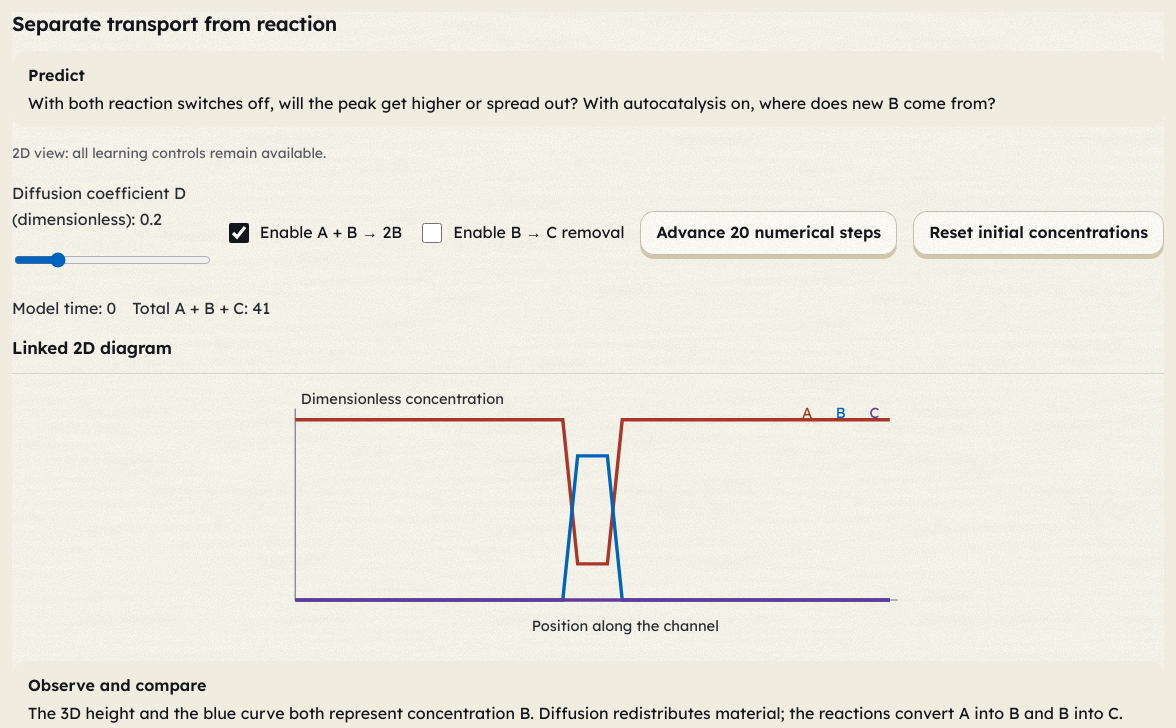
Test case: study controls remain usable without WebGL › advances a numerical model and resets concentrations without losing selected controls
The image size is (1176, 728).
Set the slider to ".8" at (112, 260), box [14,238,211,282]
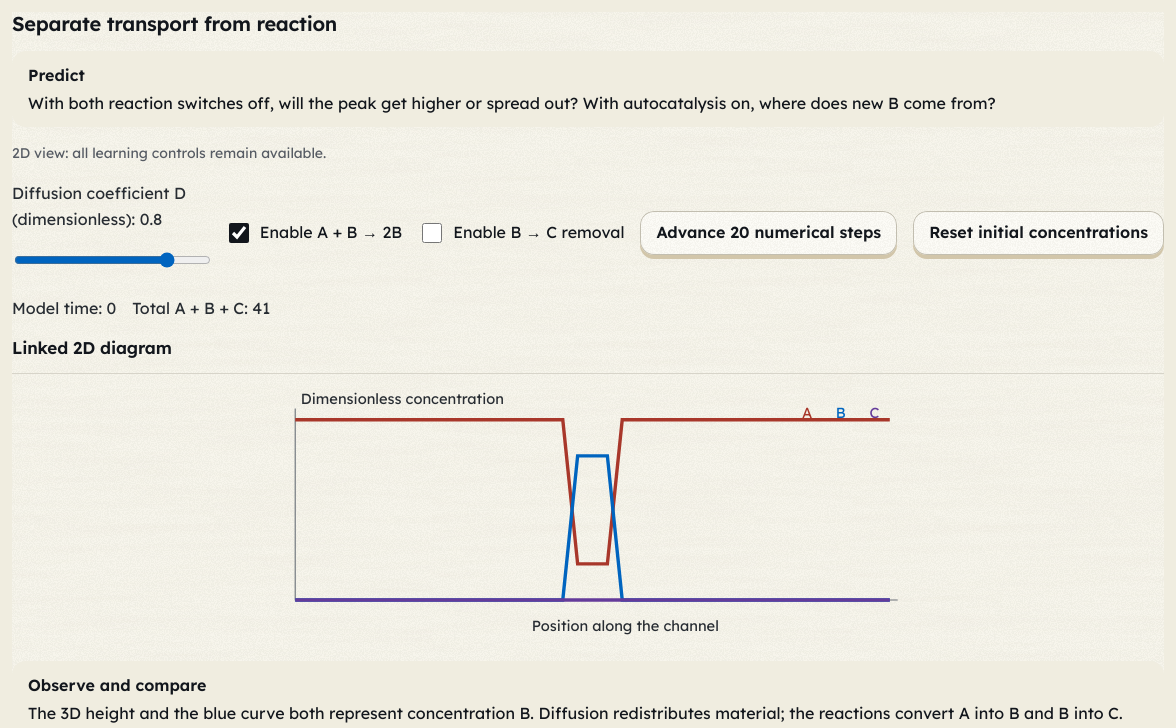
Click the button "Advance 20 numerical steps" at (769, 233), box [640,211,897,255]
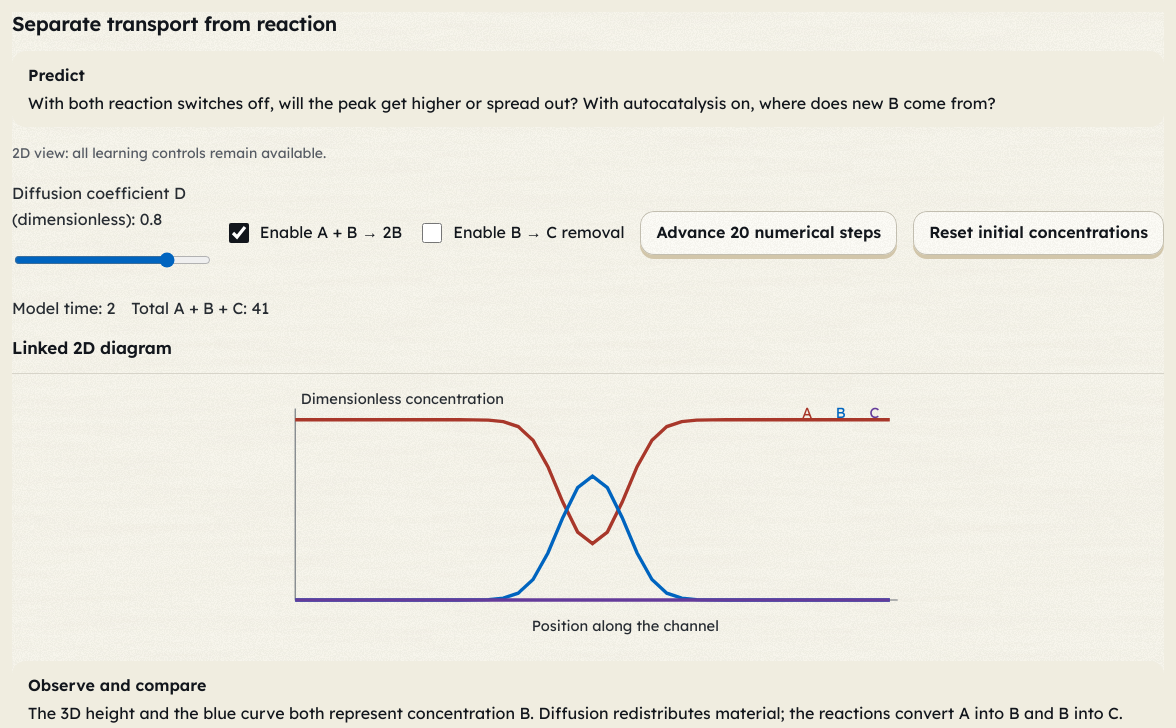
Expected: the text "Total A + B + C: 41" is shown, [131,296,269,322]
Expected: the text "Model time: 2" is shown, [12,296,115,322]
Click the button "Reset initial concentrations" at (1039, 233), box [913,211,1164,255]
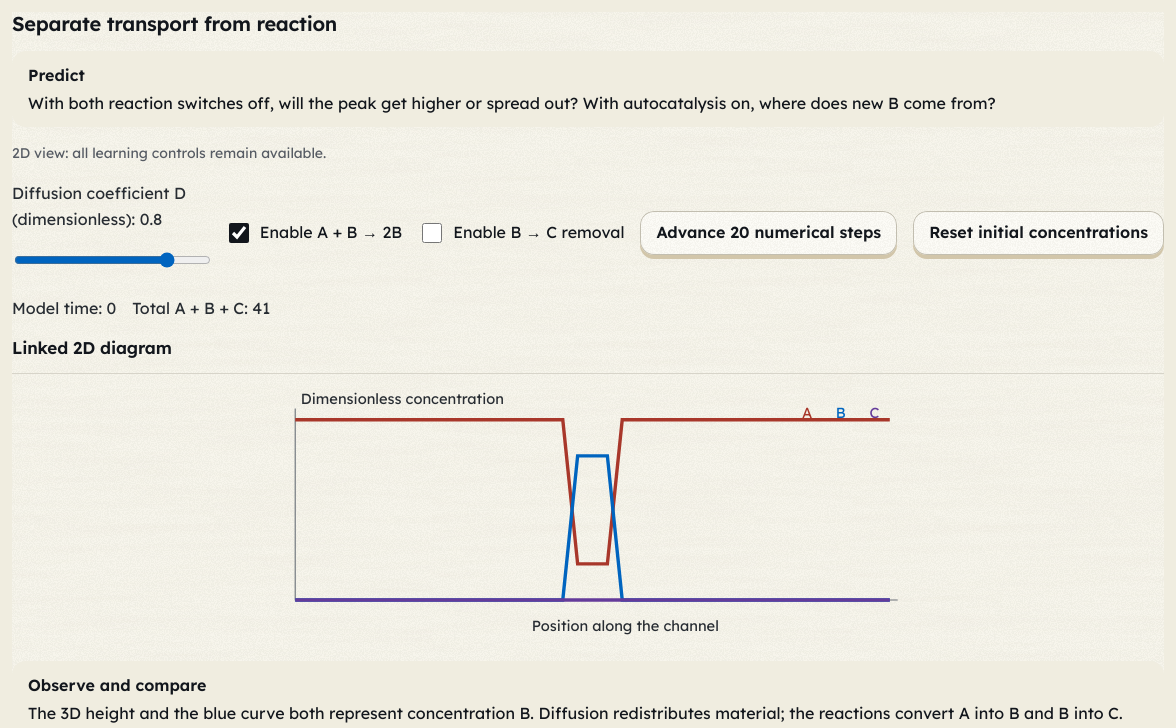
Expected: the text "Total A + B + C: 41" is shown, [132,296,270,322]
Expected: the slider holds "0.8", [14,238,211,282]
Expected: the text "Model time: 0" is shown, [12,296,116,322]
